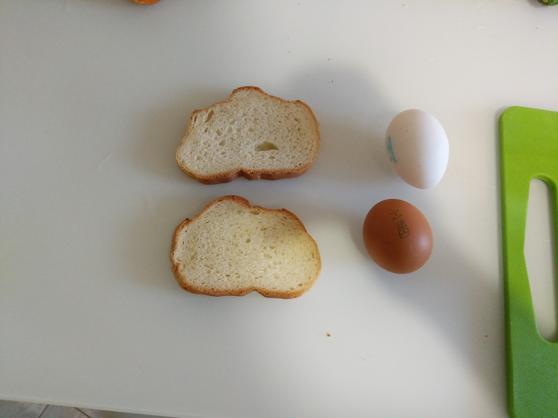egg: (364, 198, 435, 276), (386, 109, 447, 190)
white_bread: (168, 193, 325, 301), (175, 84, 320, 183)
